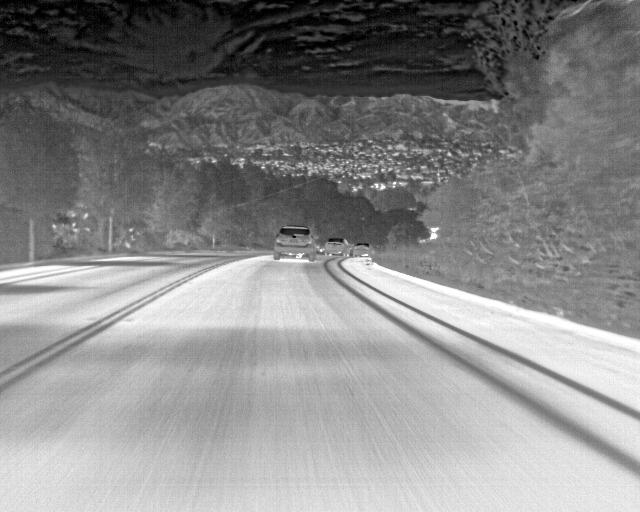car: (274, 225, 318, 261), (324, 235, 350, 258), (354, 241, 371, 256)
